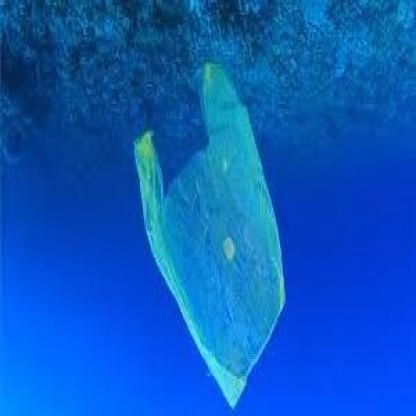pbag: (126, 47, 294, 416)
